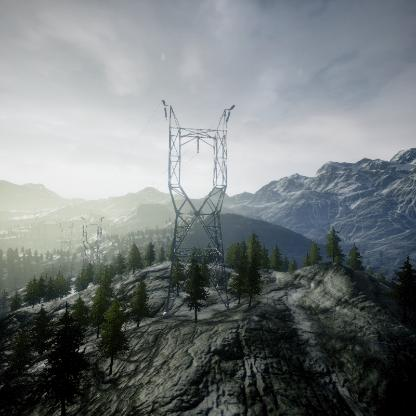tower: (160, 98, 236, 312), (80, 214, 104, 268)
